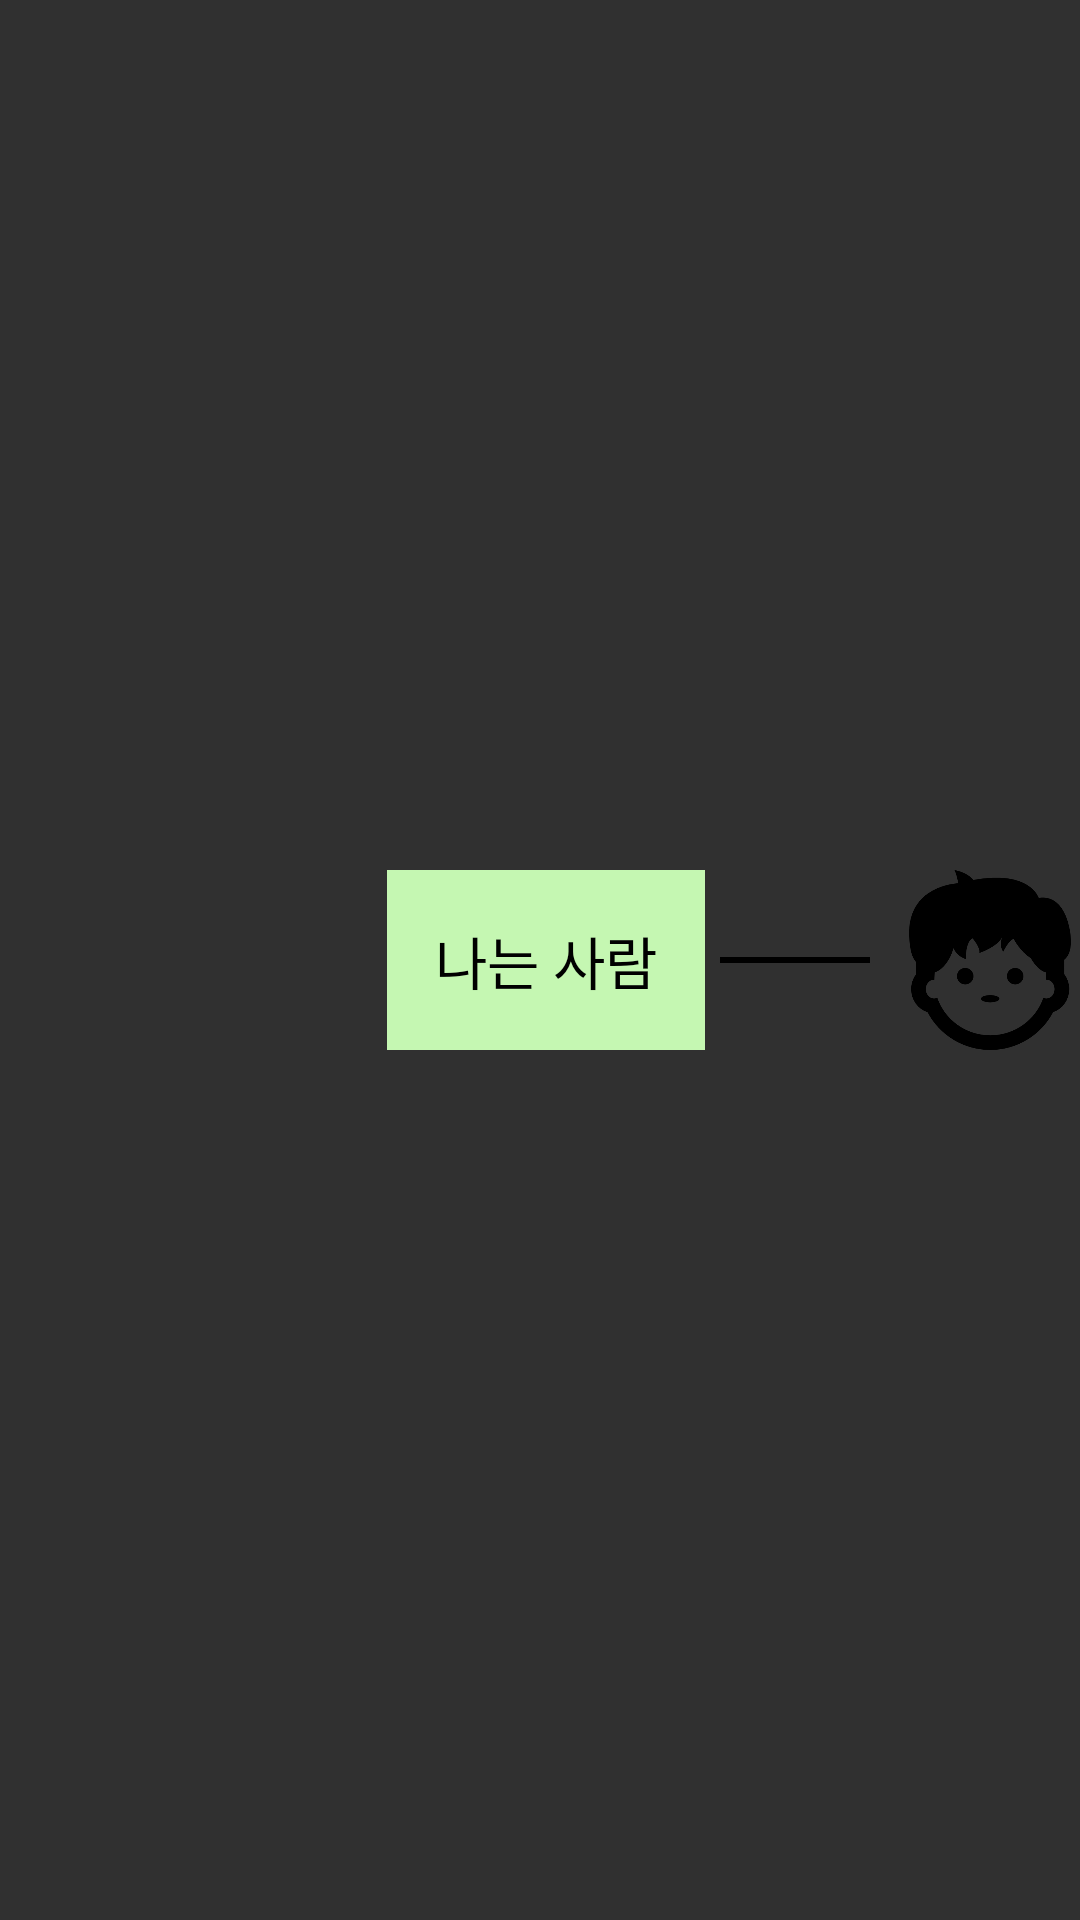

Where icons sit on this 1080px×1920px app screen, as (x1, y1, x2, y2):
human: (909, 870, 1071, 1050)
